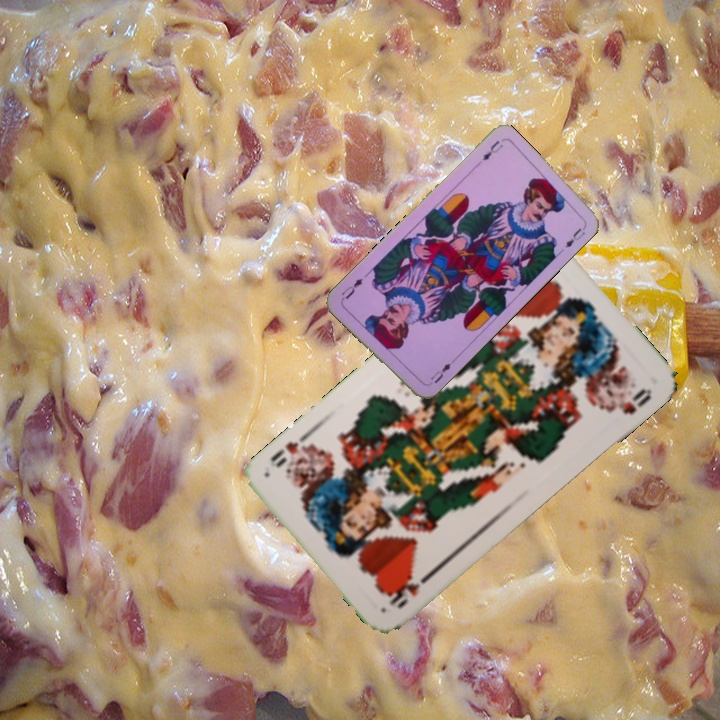EU: (426, 359, 454, 386), (478, 136, 506, 163)
HO: (385, 569, 434, 611)
